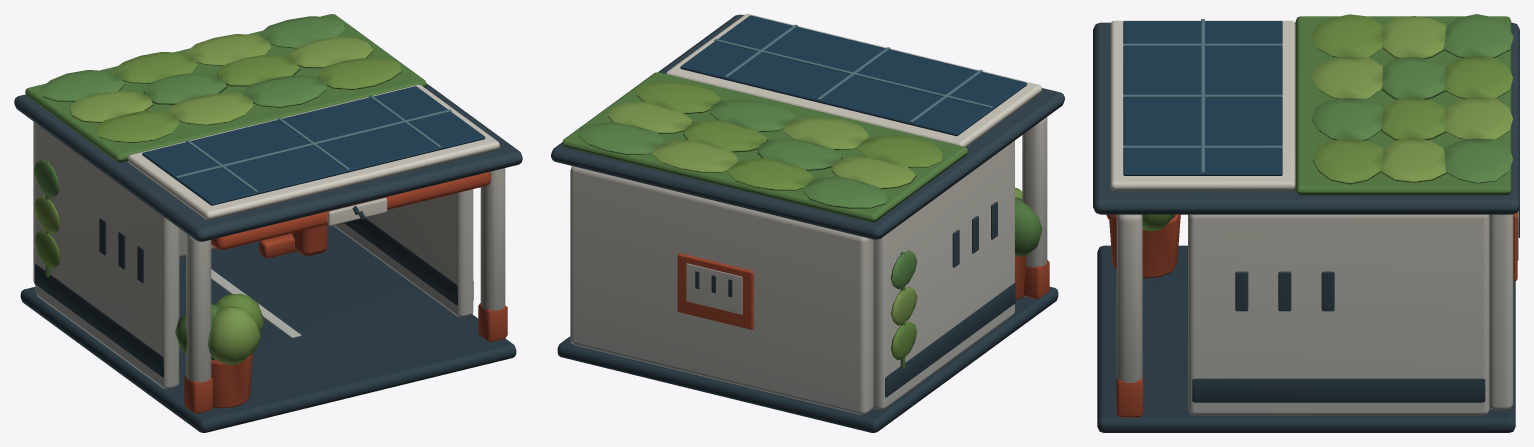
The model's file is garage.glb.
3 views of the same model, side by side, from view 1: azimuth 30°, elevation 25°; view 2: azimuth 150°, elevation 25°; view 3: azimuth 270°, elevation 25° (orthographic). The views are drawn at different scales.
Parts seen in each view (by area): view 1: Garage_slate_apron, Garage_side_wall, Garage_solar_glass, Garage_roof_edge, Garage_side_wall.001, Garage_living_roof, Garage_solar_frame, Garage_front_post, Garage_front_post.001, Garage_front_lintel, Garage_side_skirt, decor_Living_leaves.002 (+27 smaller); view 2: Garage_back_wall, Garage_side_wall, Garage_solar_glass, Garage_roof_edge, Garage_living_roof, Garage_slate_apron, Garage_solar_frame, Garage_front_post, Garage_side_skirt, Garage_rear_service_panel, decor_Roof_moss.008, decor_Roof_moss.009 (+17 smaller); view 3: Garage_side_wall.001, Garage_solar_glass, Garage_slate_apron, Garage_roof_edge, Garage_living_roof, Garage_side_skirt.001, Garage_solar_frame, Garage_back_wall, Garage_front_post.001, decor_Roof_moss.003, decor_Roof_moss, decor_Roof_moss.011 (+19 smaller).
Boxes of the visible parts, x1,y1,x2,y2 form: Garage_slate_apron: (20, 225, 516, 432); Garage_side_wall: (35, 123, 179, 389); Garage_solar_glass: (142, 86, 485, 205); Garage_roof_edge: (14, 83, 522, 241); Garage_side_wall.001: (333, 189, 473, 317); Garage_living_roof: (25, 14, 426, 162); Garage_solar_frame: (127, 84, 499, 220); Garage_front_post: (186, 234, 211, 382); Garage_front_post.001: (480, 168, 505, 310); Garage_front_lintel: (211, 172, 490, 249); Garage_side_skirt: (35, 264, 179, 376); decor_Living_leaves.002: (210, 306, 260, 364); Garage_back_wall: (570, 166, 873, 414); Garage_side_wall: (873, 140, 1014, 409); Garage_solar_glass: (680, 15, 1026, 136); Garage_roof_edge: (551, 14, 1064, 239); Garage_living_roof: (562, 72, 967, 222); Garage_slate_apron: (557, 287, 1058, 432); Garage_solar_frame: (666, 14, 1041, 147); Garage_front_post: (1022, 117, 1047, 267); Garage_side_skirt: (885, 283, 1015, 397); Garage_rear_service_panel: (677, 253, 753, 329); decor_Roof_moss.008: (802, 176, 886, 208); decor_Roof_moss.009: (727, 158, 812, 190); Garage_side_wall.001: (1188, 214, 1489, 415); Garage_solar_glass: (1123, 21, 1282, 175); Garage_slate_apron: (1097, 245, 1515, 432); Garage_roof_edge: (1093, 22, 1519, 214); Garage_living_roof: (1295, 16, 1511, 195); Garage_side_skirt.001: (1192, 378, 1485, 402); Garage_solar_frame: (1110, 20, 1295, 190); Garage_back_wall: (1489, 214, 1513, 410); Garage_front_post.001: (1116, 214, 1142, 382); decor_Roof_moss.003: (1313, 139, 1383, 184); decor_Roof_moss: (1310, 14, 1382, 57); decor_Roof_moss.011: (1443, 138, 1512, 183).
Bounding box in the file's own units: 2 × 1.29 × 1.98.
